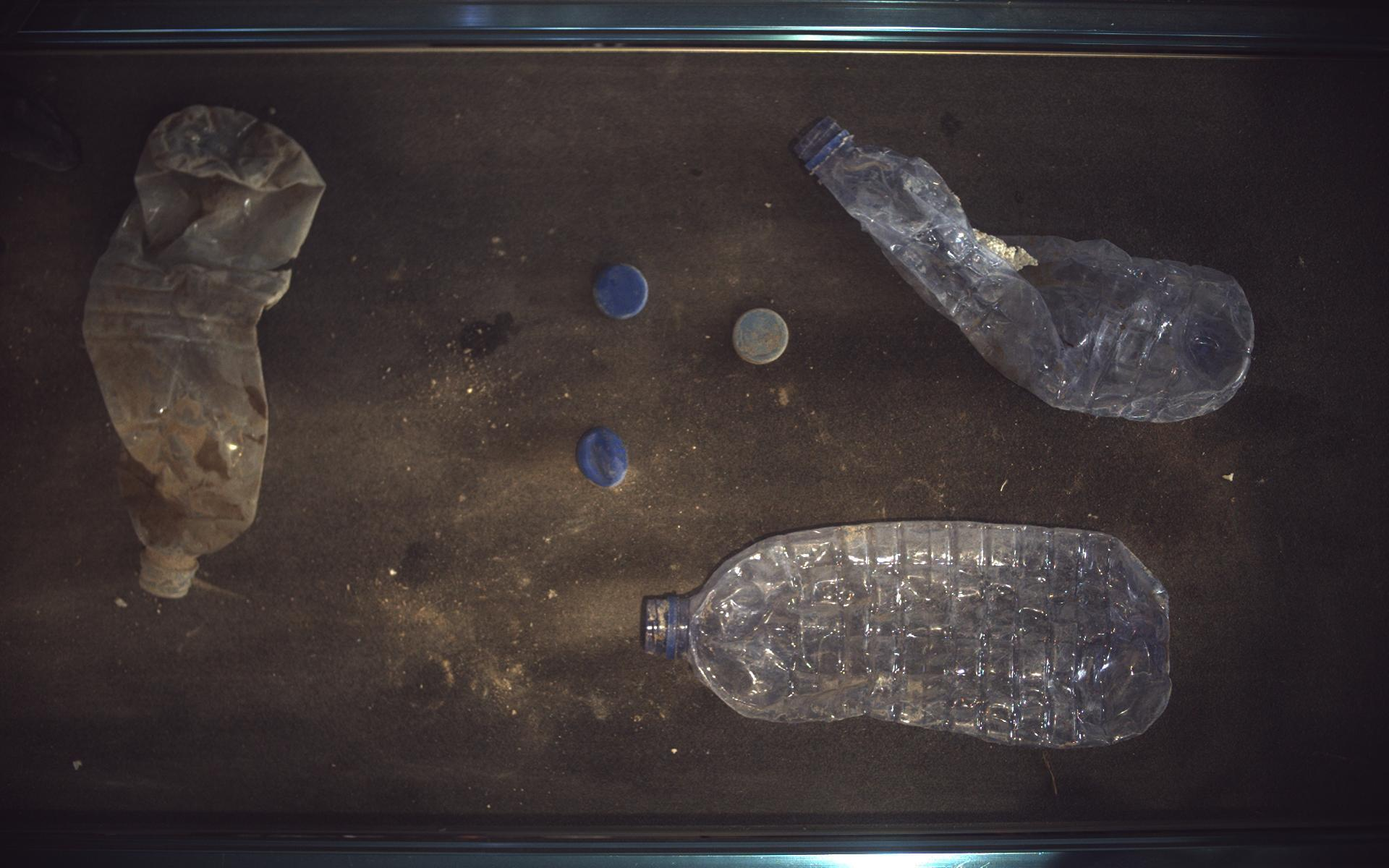general_w: (794, 116, 1257, 422), (641, 522, 1173, 749), (734, 308, 790, 365), (594, 263, 649, 319), (578, 427, 628, 488)
